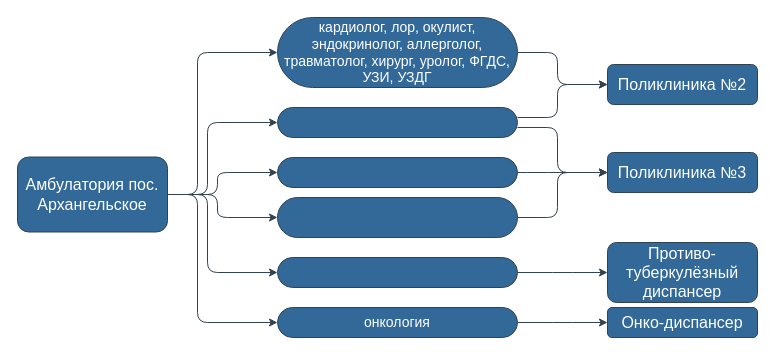
Some shapes in this 775 by 355 pixel diagram are drawn without their labels. Here are the shapes that lost their labels. From the top down, the centre of each, then its label:
At point 397,122: "рентген, КТ, МРТ, флюорография".
At point 397,172: "инфекционист".
At point 397,217: "детская гинекология, детская стоматология".
At point 397,272: "физиатр".
